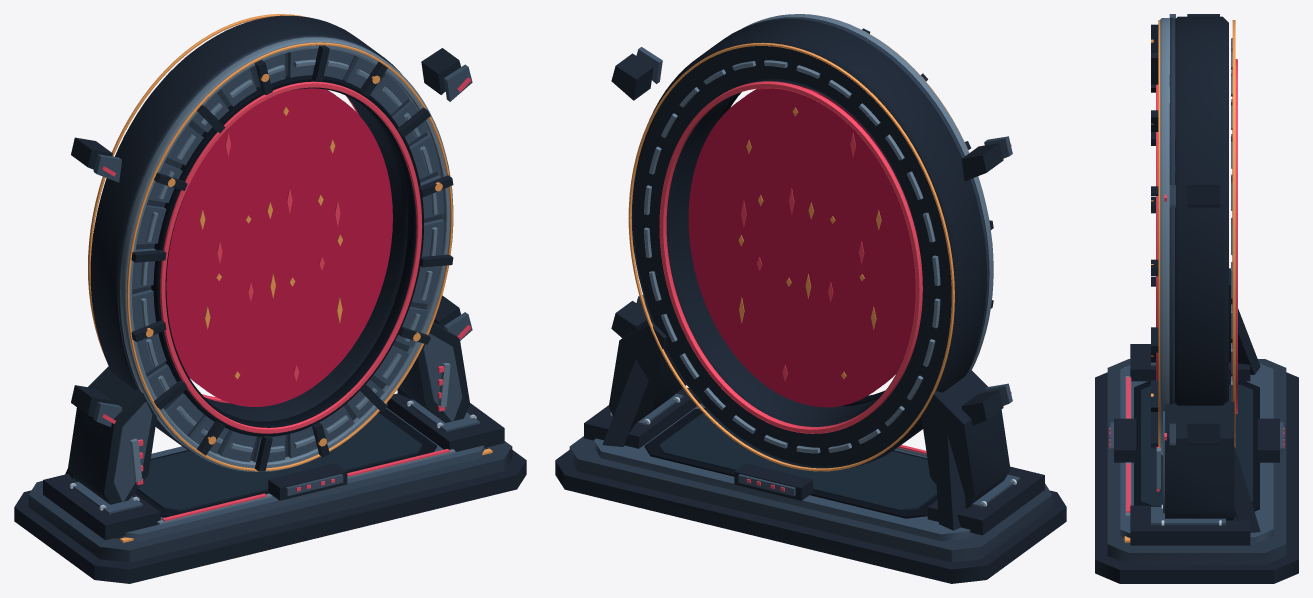
File: Sci-Fi_Portal_Gate_Red_Neon_Galactic_Portal.glb
3 views of the same model, side by side, from view 1: azimuth 30°, elevation 25°; view 2: azimuth 150°, elevation 25°; view 3: azimuth 270°, elevation 25° (orthographic). The views are drawn at different scales.
Parts seen in each view (by area): view 1: unnamed (×9); view 2: unnamed (×9); view 3: unnamed (×8).
Part boxes in pixels (x1=…): unnamed (×9): x1=14, y1=14, x2=526, y2=583; unnamed (×9): x1=555, y1=14, x2=1066, y2=583; unnamed (×8): x1=1095, y1=14, x2=1298, y2=583.
Bounding box in the file's own units: 7.36 × 7.63 × 3.12.
10 materials, 10 textured.
